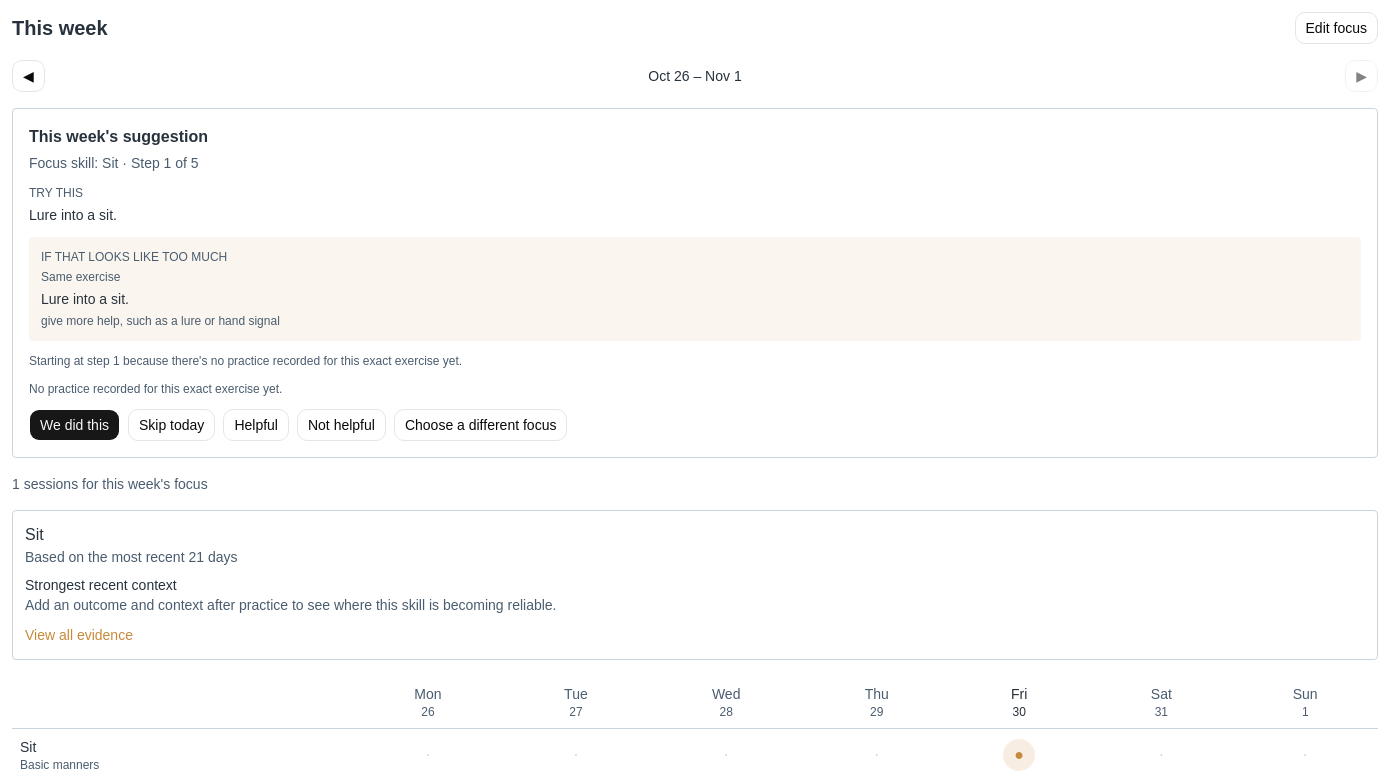
Test case: DogWeek › does not reuse a previous week's focus controls after the focus scope changes
Check: the heading "Sit" is shown, box [25,526,44,543]
Check: the button named "Log Sit on" is shown, box [412,739,444,771]
What coordinates should you click on to do the following:
click the button "●"
I would click on:
 (1019, 755)
Its box is [1003,739,1035,771].
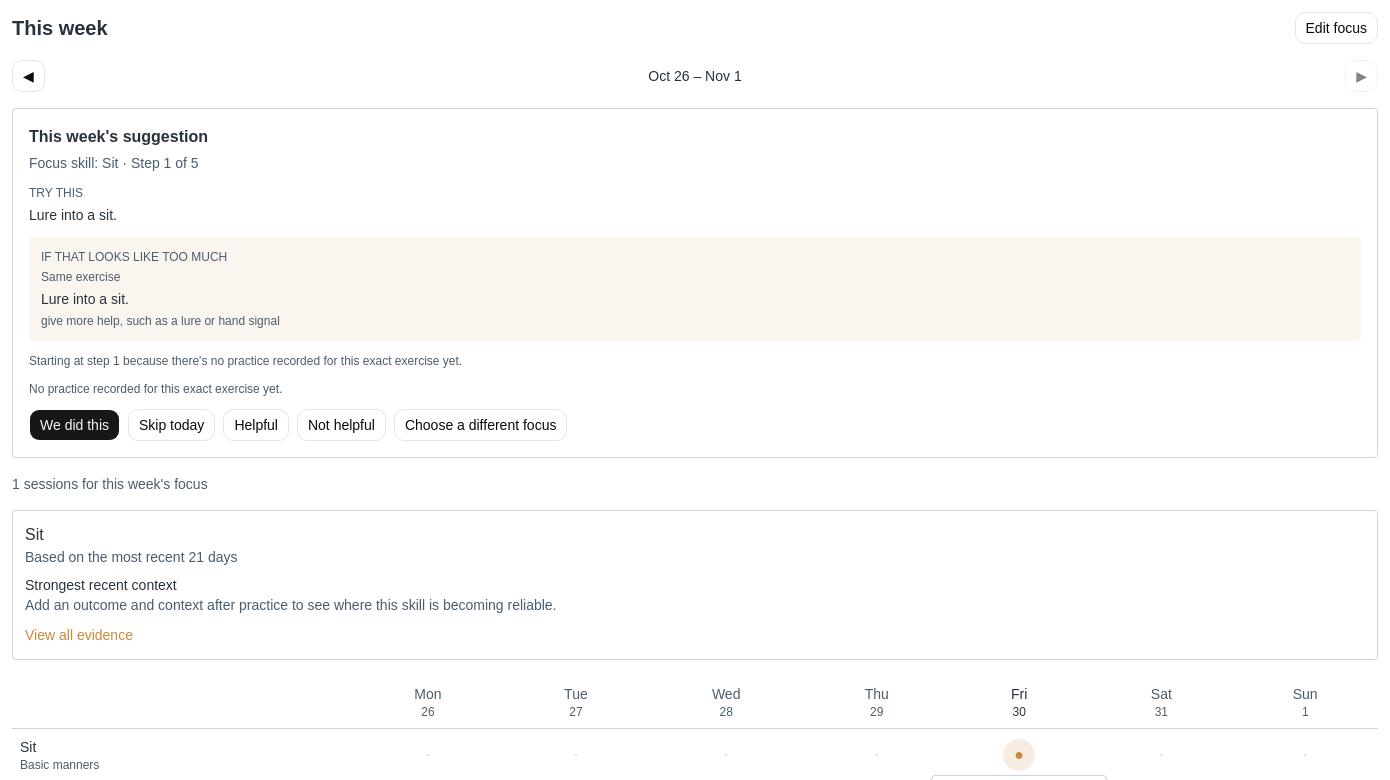
What coordinates should you click on to do the following:
click the button named "Previous week"
I would click on:
 (28, 76)
Its box is [12,60,45,92].
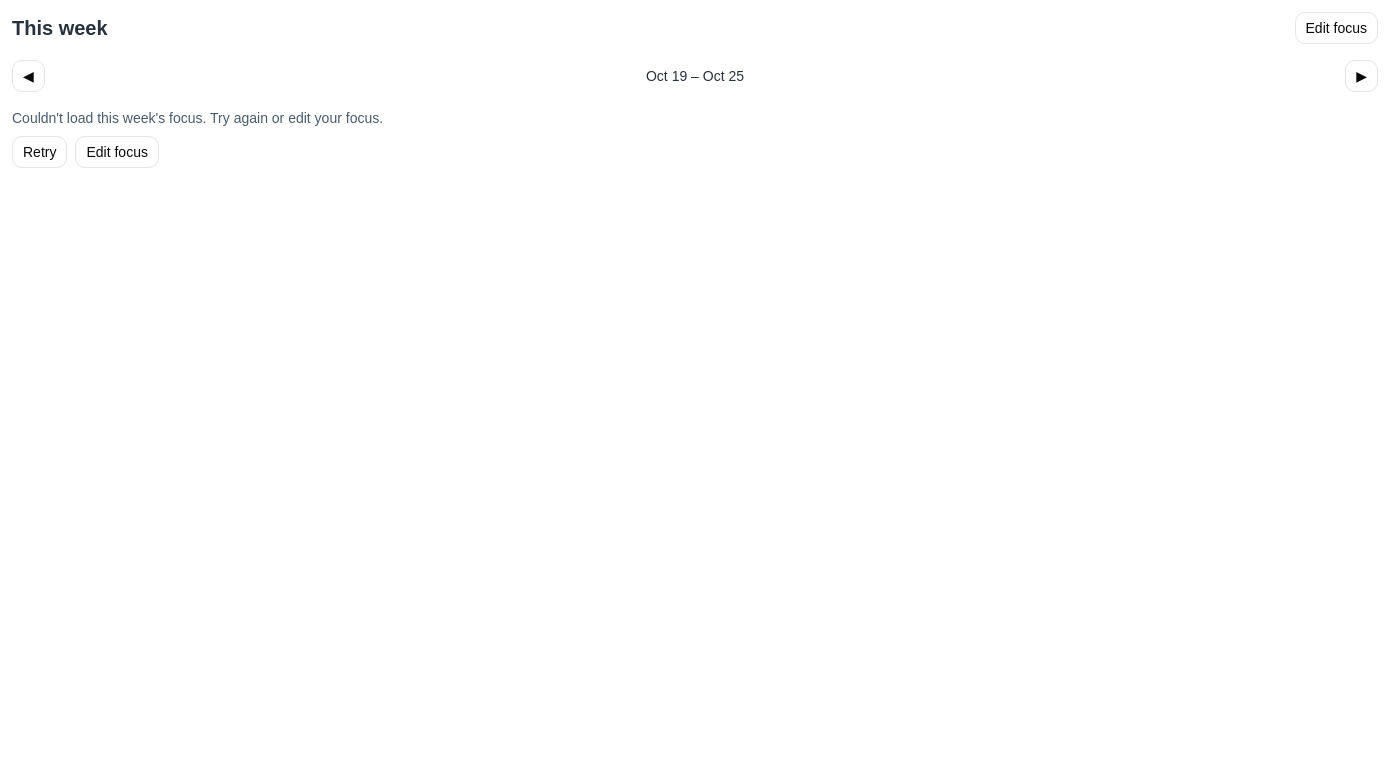
Check: the 1st button "Edit focus" is shown, box [1294,12,1378,44]
Check: the text "Couldn't load this week's focus. Try again or edit your focus." is shown, box [12,110,383,126]
Check: the text "Sit" is gone
